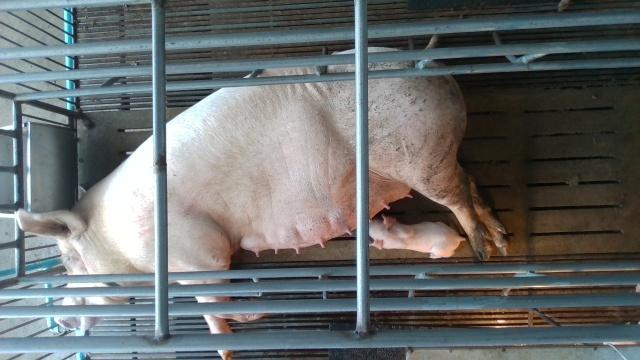piglet: (367, 212, 468, 260)
sow-sleep-lactate: (16, 48, 509, 360)
